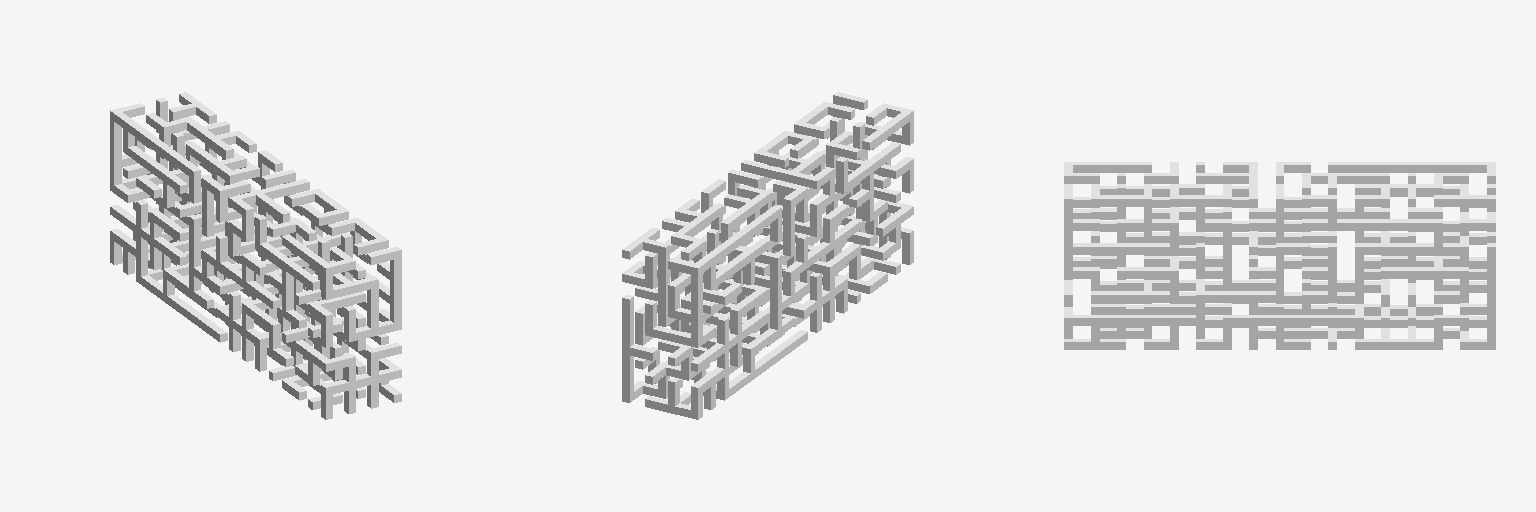
Rendered from platforms-6.obj.
3 renders of one model, left to right at view 1: azimuth 30°, elevation 25°; view 2: azimuth 150°, elevation 25°; view 3: azimuth 270°, elevation 25°, orthographic.
Visible parts, largest first — view 1: object 1; view 2: object 1; view 3: object 1.
Part boxes in pixels (bbox=[...]): object 1: bbox=[110, 92, 401, 419]; object 1: bbox=[622, 92, 913, 419]; object 1: bbox=[1064, 162, 1495, 349].
Size of the model in its own units: 1 by 1.9 by 4.9.